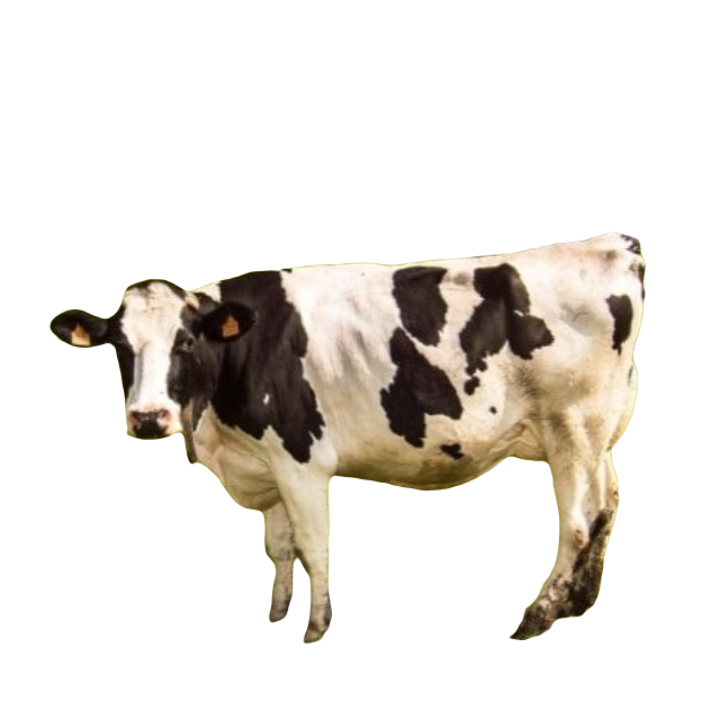Cow: (49, 232, 652, 642)
